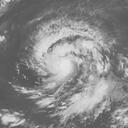cyclone: (22, 12, 115, 120)
